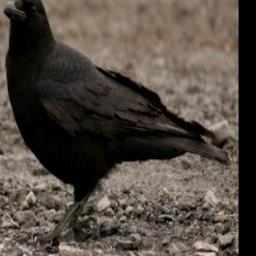Crow: (4, 0, 232, 246)
